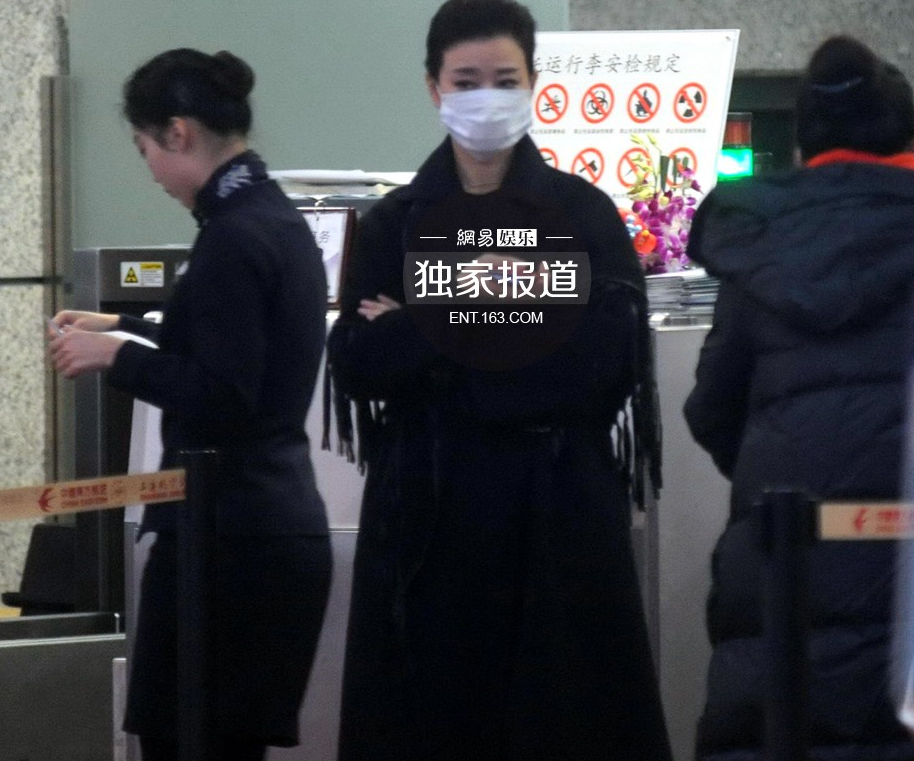face: (133, 121, 188, 197)
face_mask: (440, 40, 528, 150)
